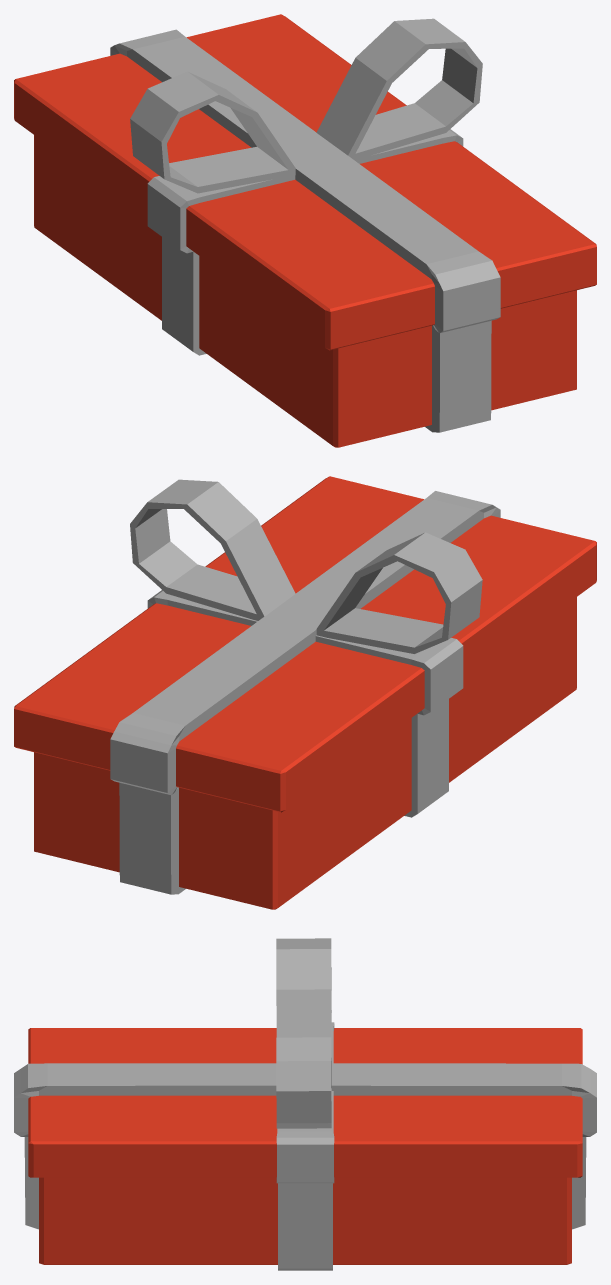
Rendered from Large Gift.fbx.
The picture shows the model from 3 angles, top to bottom: view 1: azimuth 30°, elevation 25°; view 2: azimuth 150°, elevation 25°; view 3: azimuth 270°, elevation 25°; orthographic projection. The views are drawn at different scales.
Visible parts, largest first — view 1: Cube.002; view 2: Cube.002; view 3: Cube.002.
Boxes of the visible parts, x1=… form: Cube.002: x1=14, y1=14, x2=596, y2=447; Cube.002: x1=14, y1=476, x2=596, y2=909; Cube.002: x1=14, y1=938, x2=596, y2=1270.
Size of the model in its own units: 287 by 220 by 514.
